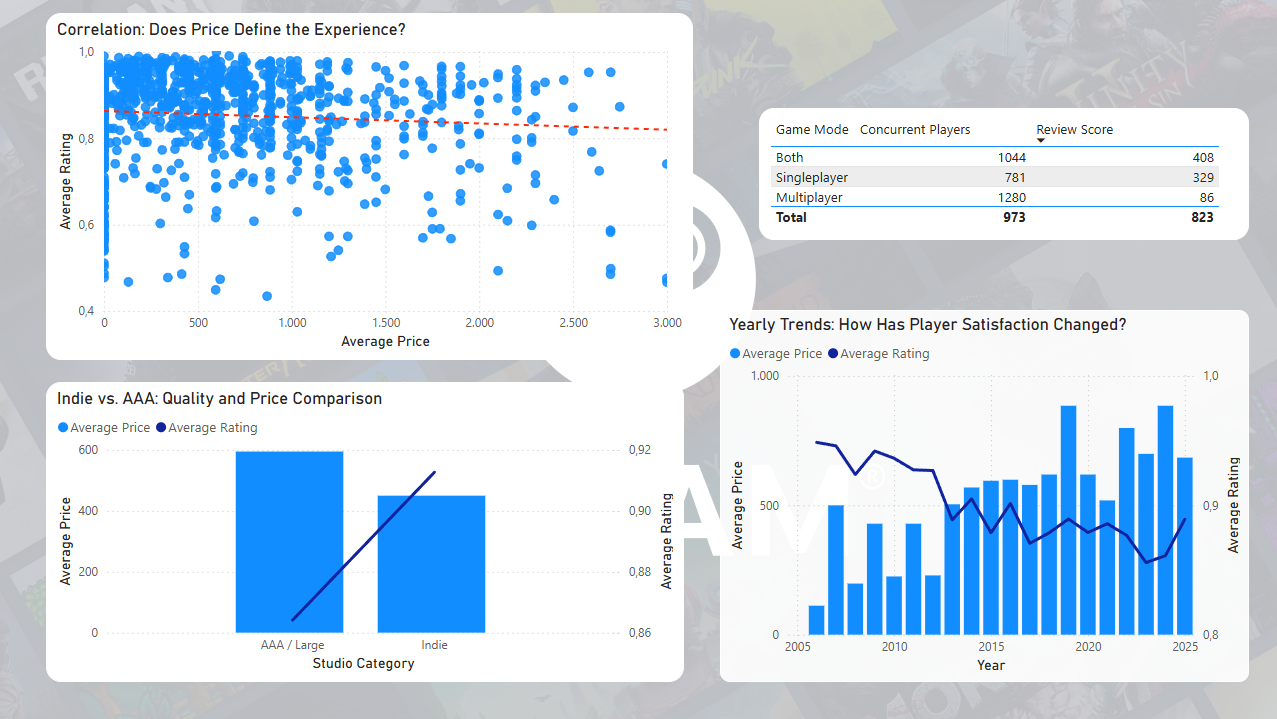

Layout of this report page (visuals, bound fields, positions):
{"tool":"powerbi","page":{"name":"Página 2","canvas":[1280,720],"ordinal":1},"visuals":[{"type":"scatterChart","title":"Correlation: Does Price Define the Experience?","fields":{"X":["Median(juegosSteam_limpio.price_uyu)"],"Y":["Median(juegosSteam_limpio.review_score)"],"Category":["juegosSteam_limpio.name"]},"box":[48,13,647,347],"z":6000},{"type":"lineStackedColumnComboChart","title":"Yearly Trends: How Has Player Satisfaction Changed?","fields":{"Y":["juegosSteam_limpio.PrecioMediano"],"Y2":["Median(juegosSteam_limpio.review_score)"],"Category":["juegosSteam_limpio.year"]},"box":[722.2,310,528.9,372.2],"z":7000},{"type":"lineClusteredColumnComboChart","title":"Indie vs. AAA: Quality and Price Comparison","fields":{"Y":["Median(juegosSteam_limpio.price_uyu)"],"Y2":["Median(juegosSteam_limpio.review_score)"],"Category":["juegosSteam_limpio.Categoría_Estudio"]},"box":[47.8,382.2,637.8,300],"z":8000},{"type":"tableEx","fields":{"Values":["juegosSteam_limpio.Modo_Juego","Median(juegosSteam_limpio.ccu)","Sum(juegosSteam_limpio.review_score)"]},"box":[761.2,107.5,490,132.5],"z":9000}]}

Visuals, with their boxes in screenshot pixels (x1, y1, x2, y2), scaled from the page's 1280x720 canvas onto the 1277x719 screenshot:
"Correlation: Does Price Define the Experience?" scatterChart: select_region(48, 13, 693, 360)
"Yearly Trends: How Has Player Satisfaction Changed?" lineStackedColumnComboChart: select_region(721, 310, 1248, 681)
"Indie vs. AAA: Quality and Price Comparison" lineClusteredColumnComboChart: select_region(48, 382, 684, 681)
tableEx - juegosSteam_limpio.Modo_Juego x Median(juegosSteam_limpio.ccu): select_region(759, 107, 1248, 240)
